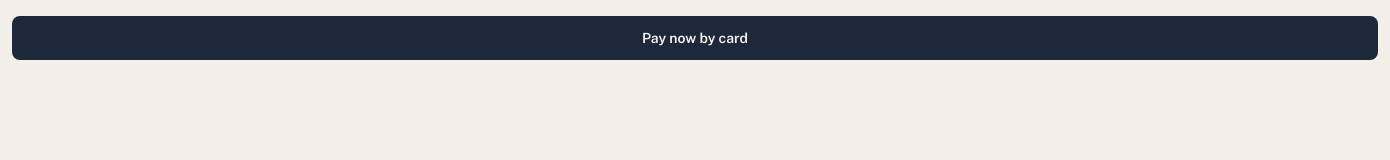
surfaces an error message when the action fails
The width and height of the screenshot is (1390, 160).
Click the button "Pay now by card" at coordinates (695, 38), box [12, 16, 1378, 60]
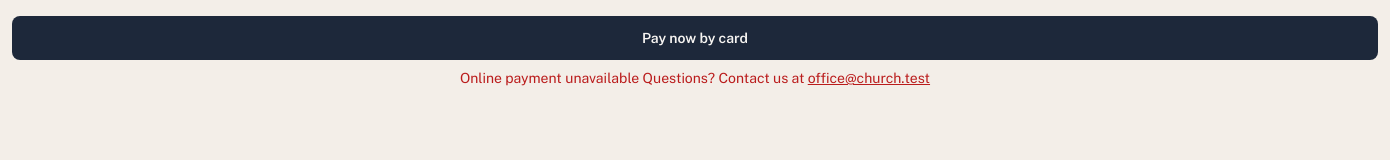
Now the message shows "Online payment unavailable", box [460, 70, 639, 86]
